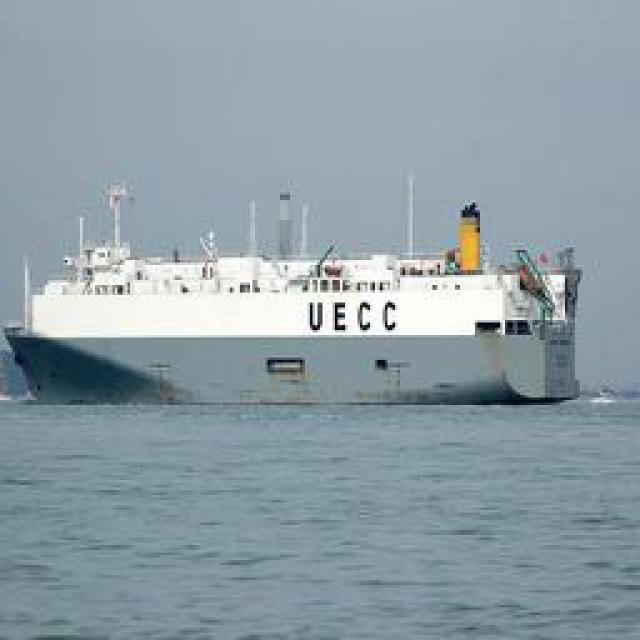Ship: (4, 179, 586, 416)
